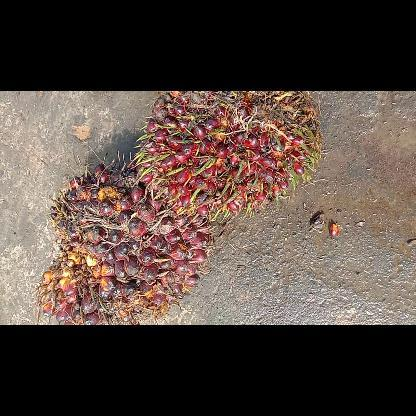Kurang masak: (131, 90, 321, 222)
TBS masak: (37, 160, 213, 324)
